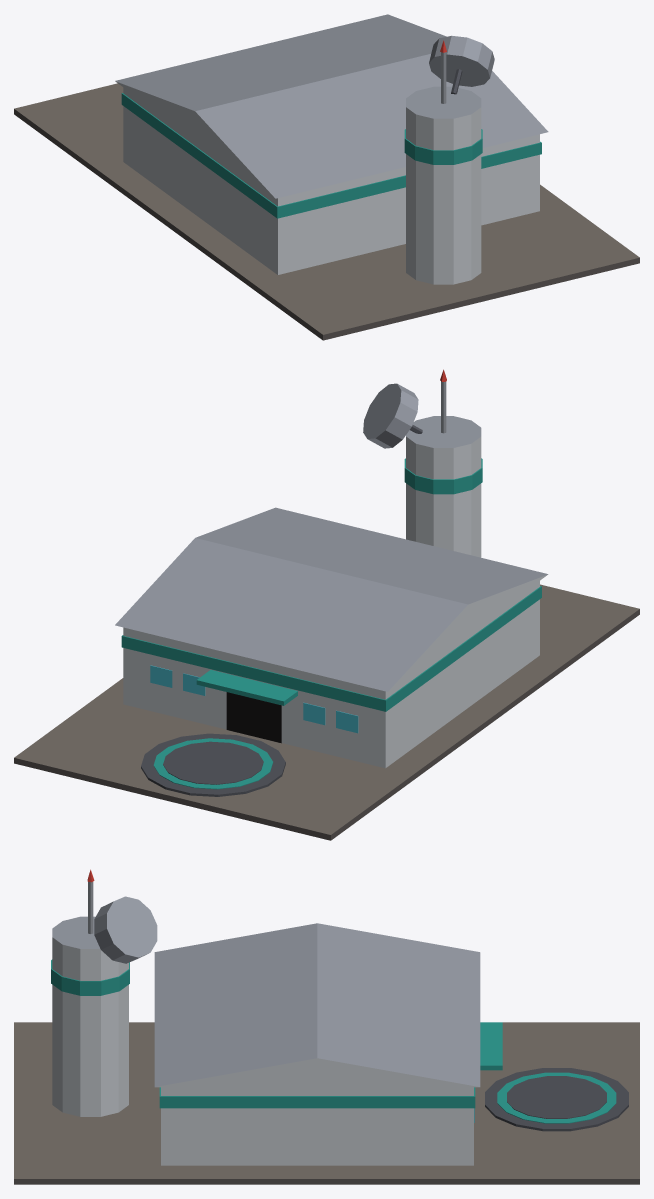
The picture shows the model from 3 angles, top to bottom: view 1: azimuth 30°, elevation 25°; view 2: azimuth 150°, elevation 25°; view 3: azimuth 270°, elevation 25°; orthographic projection.
Bounding box in the file's own units: 5.8 × 4.1 × 9.8.
